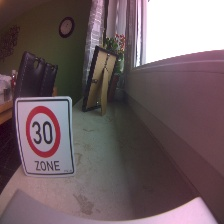dreisiger_zone: (14, 97, 77, 177)
